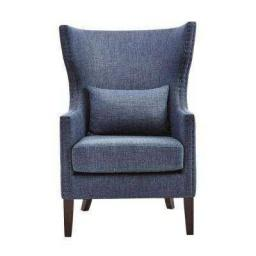Chair: (56, 23, 198, 238)
